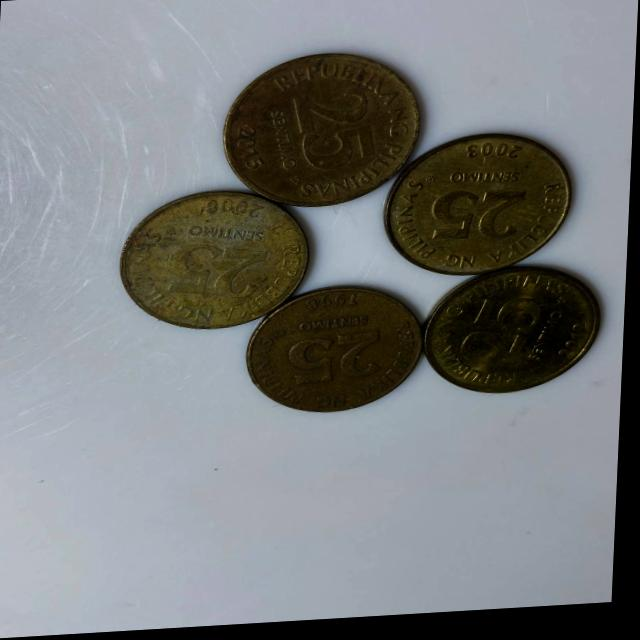25Cent_Old_Front: (289, 88, 382, 179), (419, 185, 520, 253), (166, 241, 270, 306), (459, 301, 552, 372), (289, 334, 393, 388)
